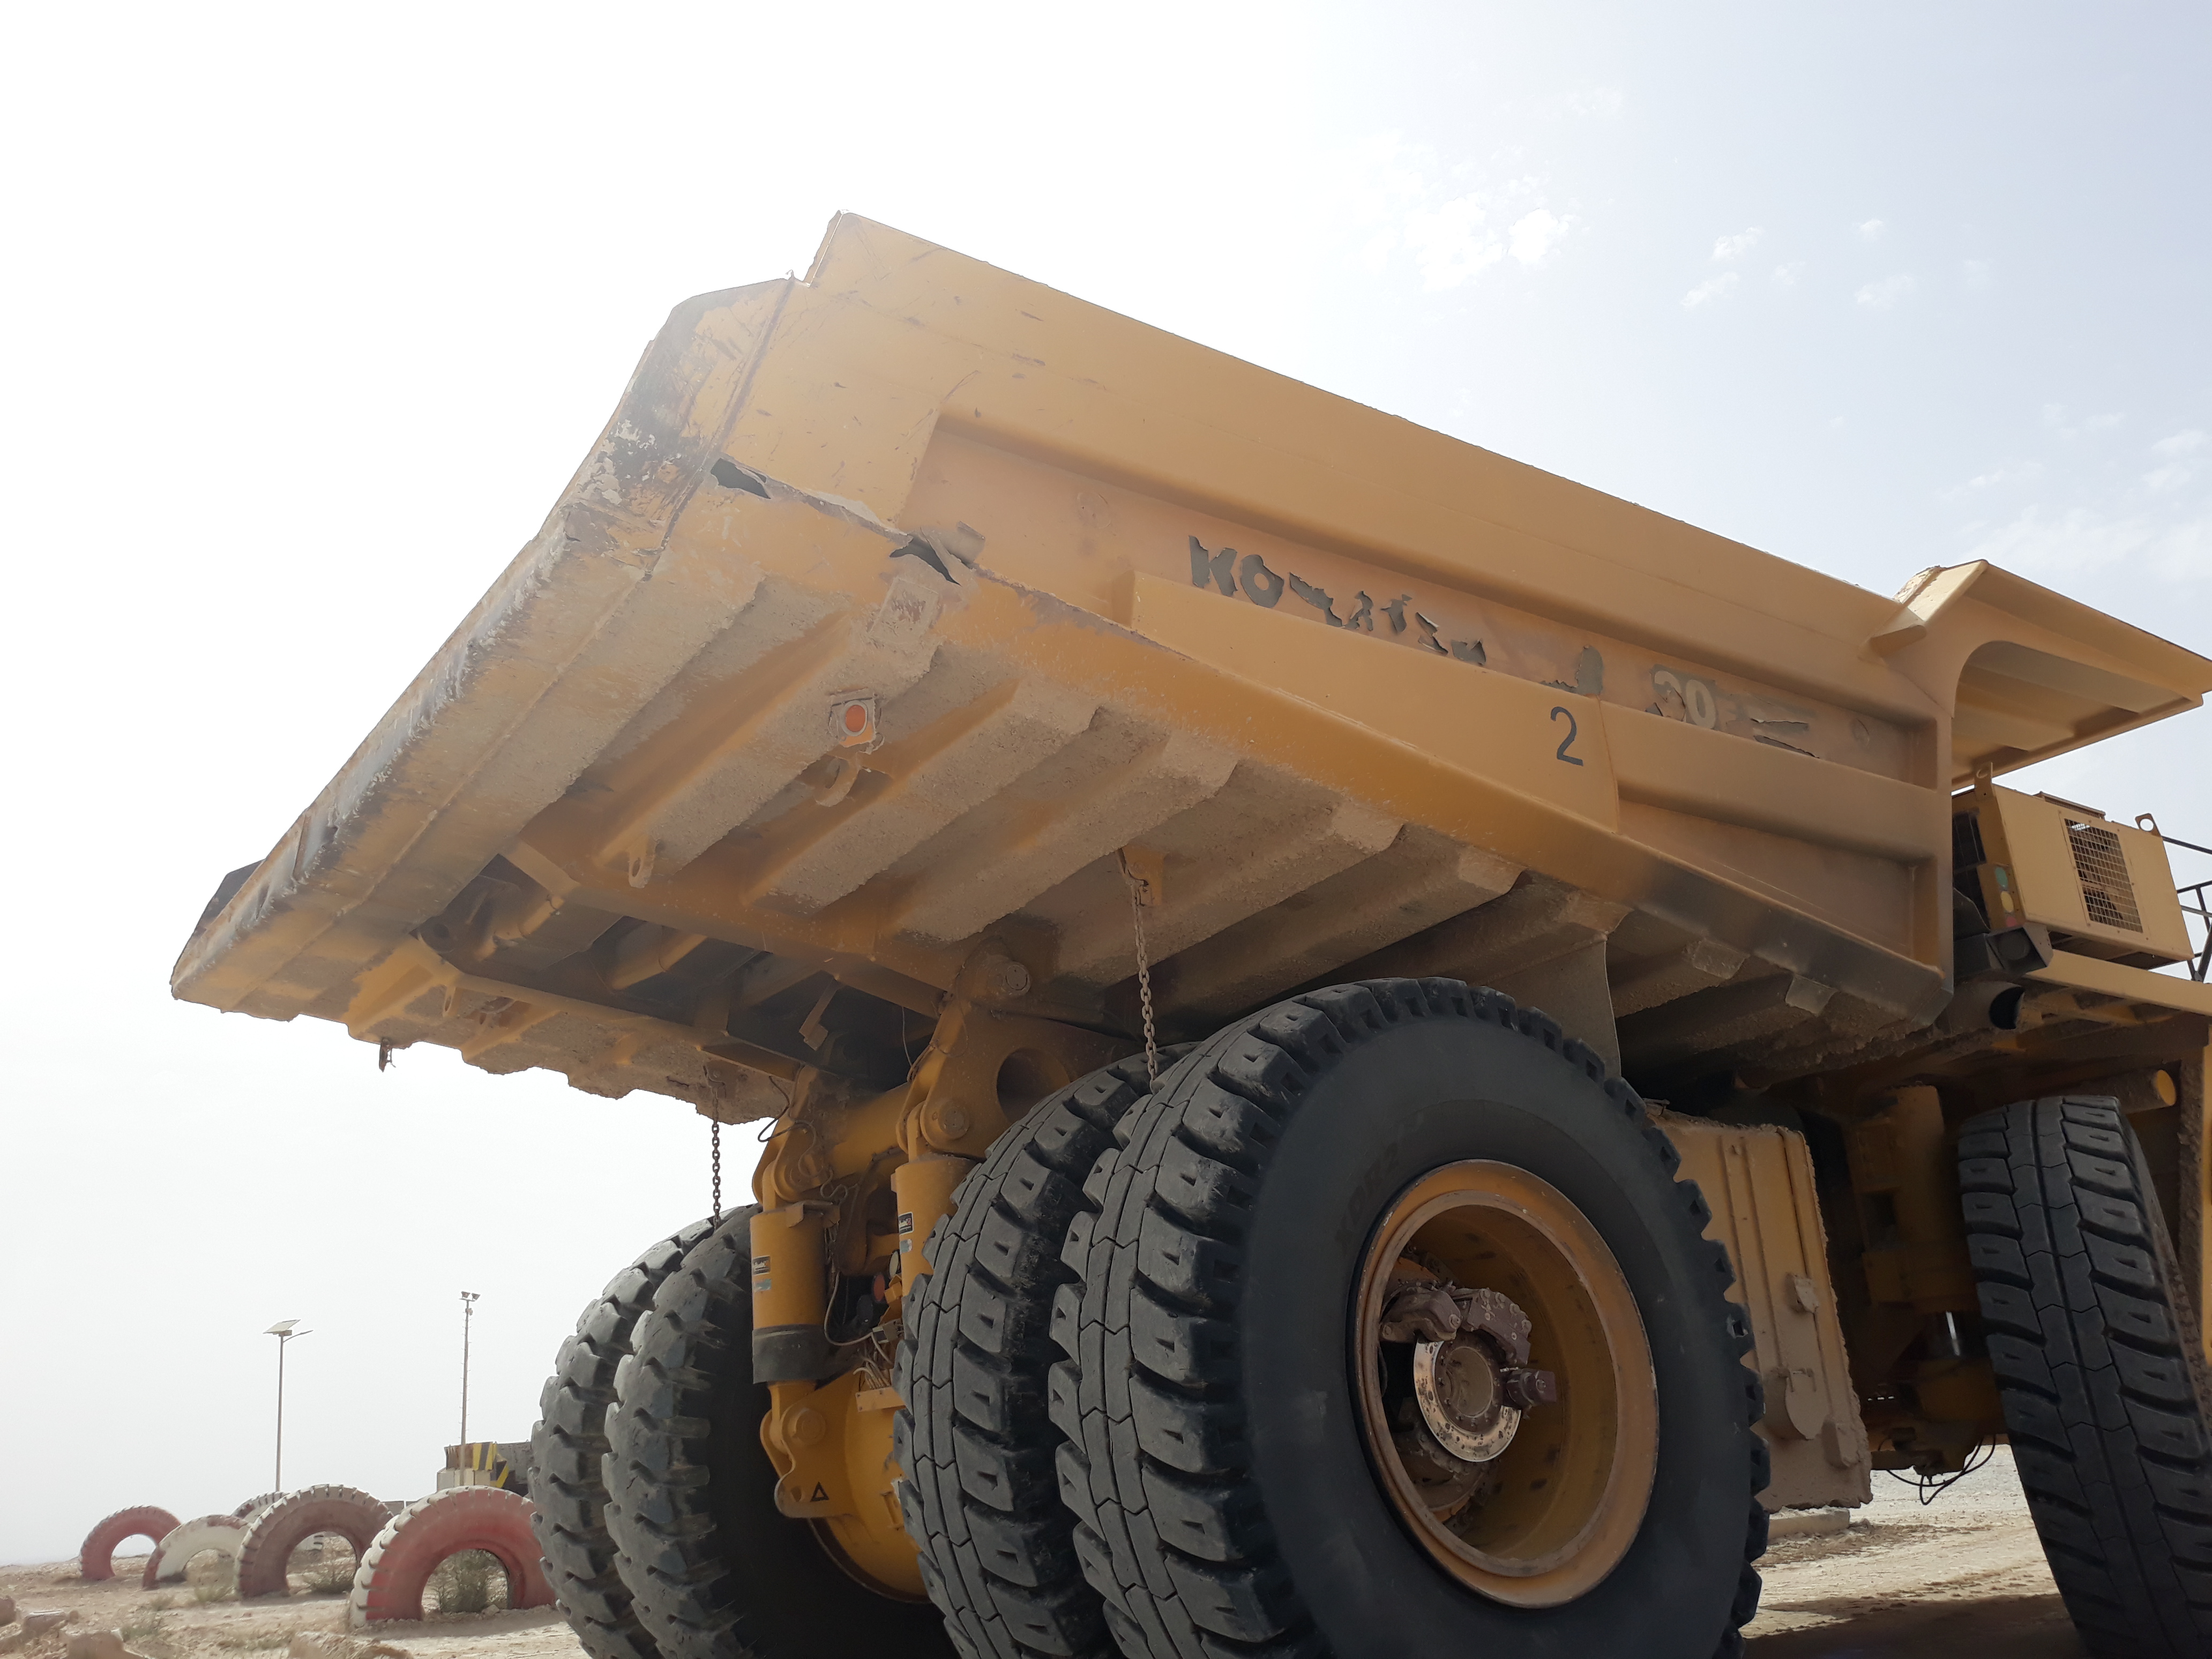camion: (172, 206, 2212, 1657)
